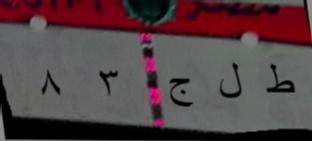3: (97, 63, 125, 100)
8: (38, 68, 65, 101)
Taa: (256, 60, 297, 106)
jeem: (167, 74, 196, 113)
laam: (214, 55, 245, 103)
